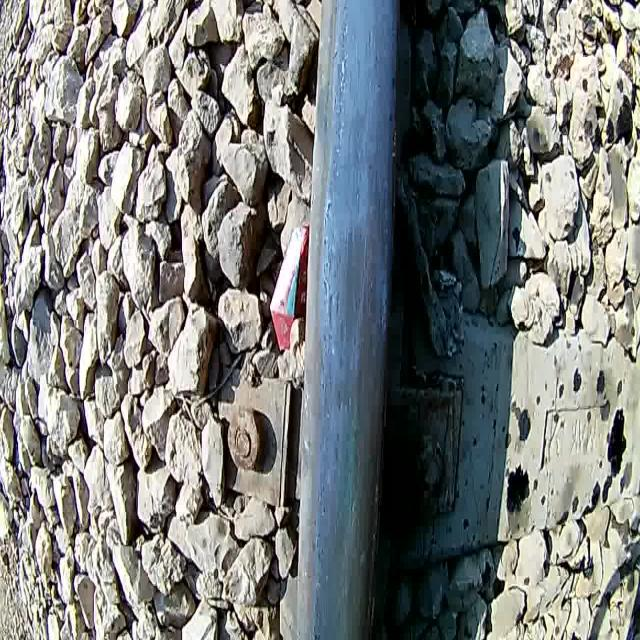Squats: (341, 300, 386, 572), (327, 213, 372, 352)
